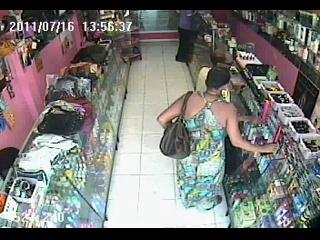Normal: (157, 67, 279, 227), (159, 91, 194, 160), (175, 10, 199, 66)
